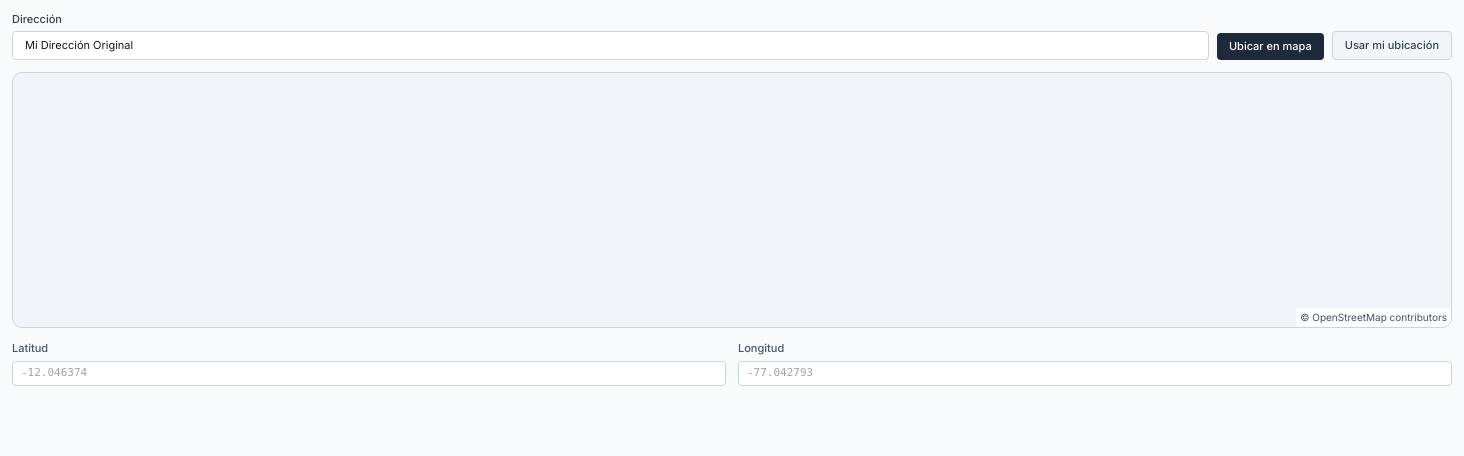
F005.4 · Geolocalización de Sedes — Full E2E & Component Test Suite › Tier 2: Boundary & Corner Cases › T2-DRAG-03: Suggestion chip "Descartar" button dismisses suggestion chip and keeps original address text
The image size is (1464, 456).
Click the button "Usar mi ubicación".
click(1392, 45)  # box [1332,31,1452,60]
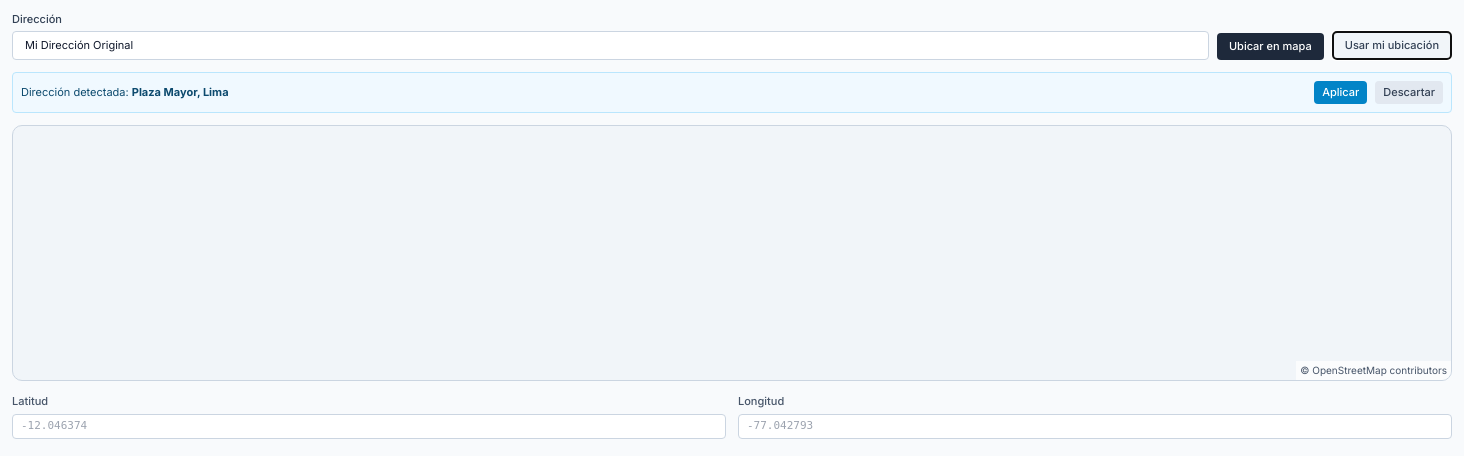
Now the element with test id "reverse-suggestion-chip" is shown, box [12,72,1452,112]
Click the button "Descartar".
click(1409, 92)  # box [1375,81,1443,104]
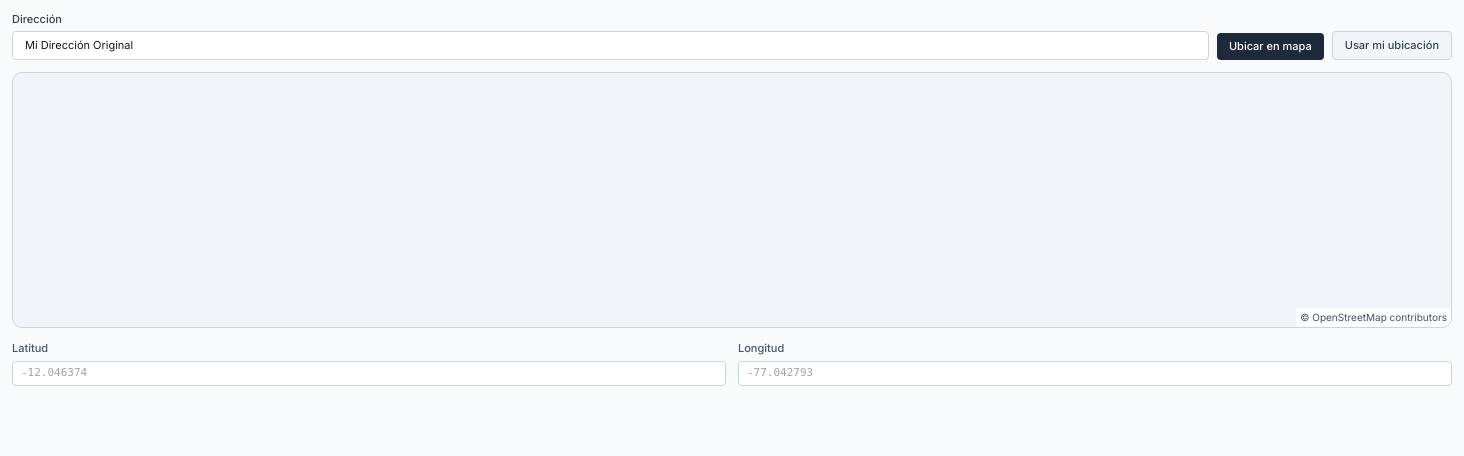
Now the element with test id "reverse-suggestion-chip" is gone
